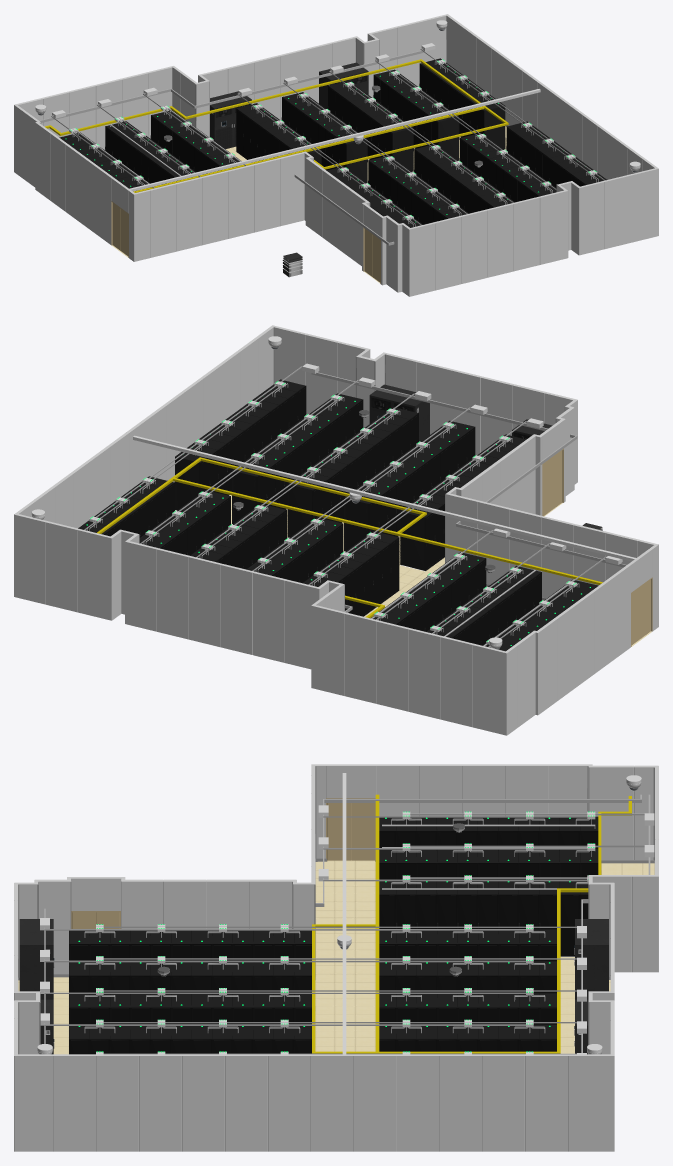
The model's file is room5.glb.
The picture shows the model from 3 angles, top to bottom: view 1: azimuth 30°, elevation 25°; view 2: azimuth 150°, elevation 25°; view 3: azimuth 270°, elevation 25°; orthographic projection. The views are drawn at different scales.
Parts seen in each view (by area): view 1: wall_1, cable_main, main_bus_a, main_bus_b, rail, linemesh, air_2, rack_e01, rack_c01, rack_a01, air_1, rack_g01 (+5 smaller); view 2: wall_1, main_bus_b, cable_main, rail, main_bus_a, linemesh, rack_j01, air_4, rack_f01, rack_b01, rack_h01, rack_d01 (+9 smaller); view 3: wall_1, ground_1, main_bus_b, main_bus_a, cable_main, linemesh, door_01, air_3, air_2, wall_2, rail, rack_k10 (+91 smaller).
Boxes of the visible parts, x1,y1,x2,y2 form: wall_1: (14, 14, 658, 296); cable_main: (45, 59, 508, 192); main_bus_a: (39, 43, 587, 216); main_bus_b: (76, 62, 605, 245); rail: (129, 89, 540, 191); linemesh: (72, 61, 598, 227); air_2: (210, 91, 251, 149); rack_e01: (385, 126, 413, 171); rack_c01: (431, 113, 459, 160); rack_a01: (476, 102, 505, 149); air_1: (319, 62, 368, 108); rack_g01: (339, 138, 367, 182); wall_1: (14, 325, 658, 735); main_bus_b: (96, 363, 626, 637); cable_main: (97, 457, 602, 646); rail: (133, 435, 635, 561); main_bus_a: (84, 386, 571, 647); linemesh: (87, 383, 579, 647); rack_j01: (400, 507, 434, 570); air_4: (369, 384, 429, 441); rack_f01: (287, 479, 321, 537); rack_b01: (175, 452, 209, 510); rack_h01: (344, 496, 378, 551); rack_d01: (232, 465, 266, 523); wall_1: (14, 764, 658, 1151); ground_1: (18, 860, 654, 1054); main_bus_b: (40, 794, 641, 1043); main_bus_a: (103, 794, 654, 1054); cable_main: (312, 794, 631, 1053); linemesh: (84, 818, 591, 1033); door_01: (326, 798, 375, 860); air_3: (19, 919, 54, 999); air_2: (574, 919, 608, 999); wall_2: (18, 766, 654, 1054); rail: (342, 773, 346, 1054); rack_k10: (559, 881, 579, 956).
Bounding box in the file's own units: 20.17 × 3.08 × 18.85.
Materials: 22 (10 with a texture image).
